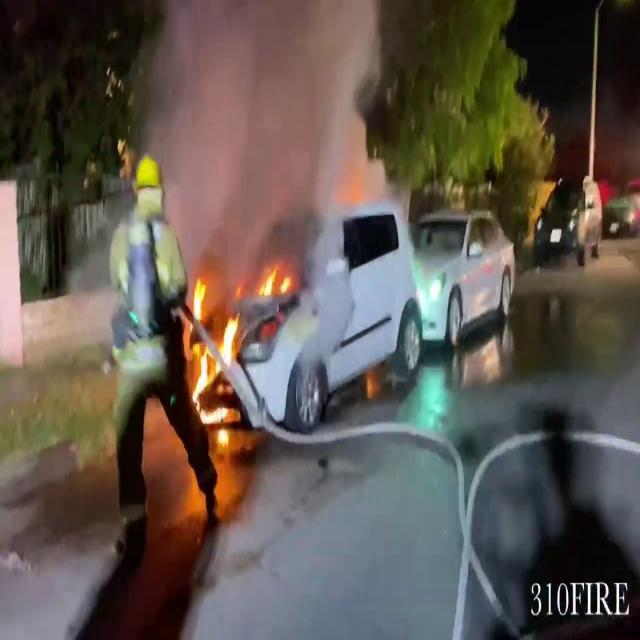Fire: (181, 275, 243, 414)
Smoke: (132, 0, 396, 267)
